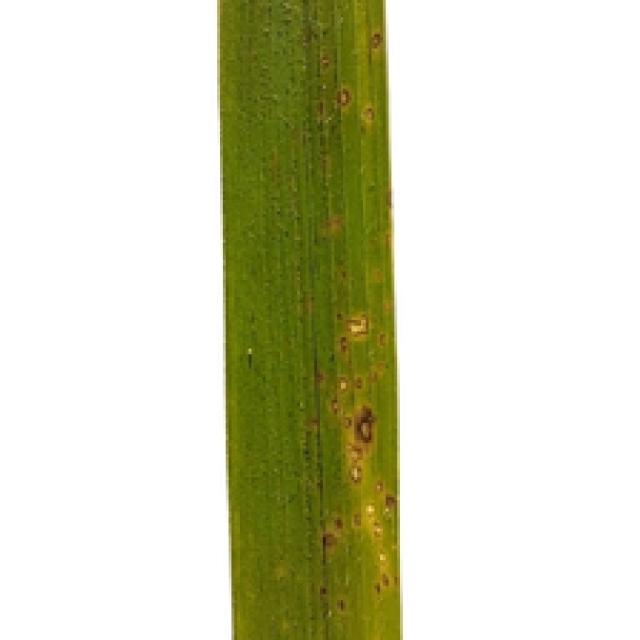Rice___Brown_Spot: (218, 0, 403, 637)
